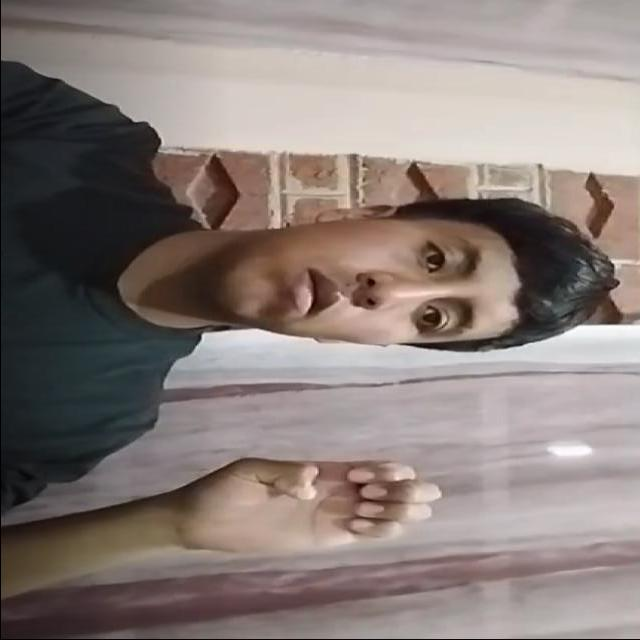E: (156, 443, 442, 572)
